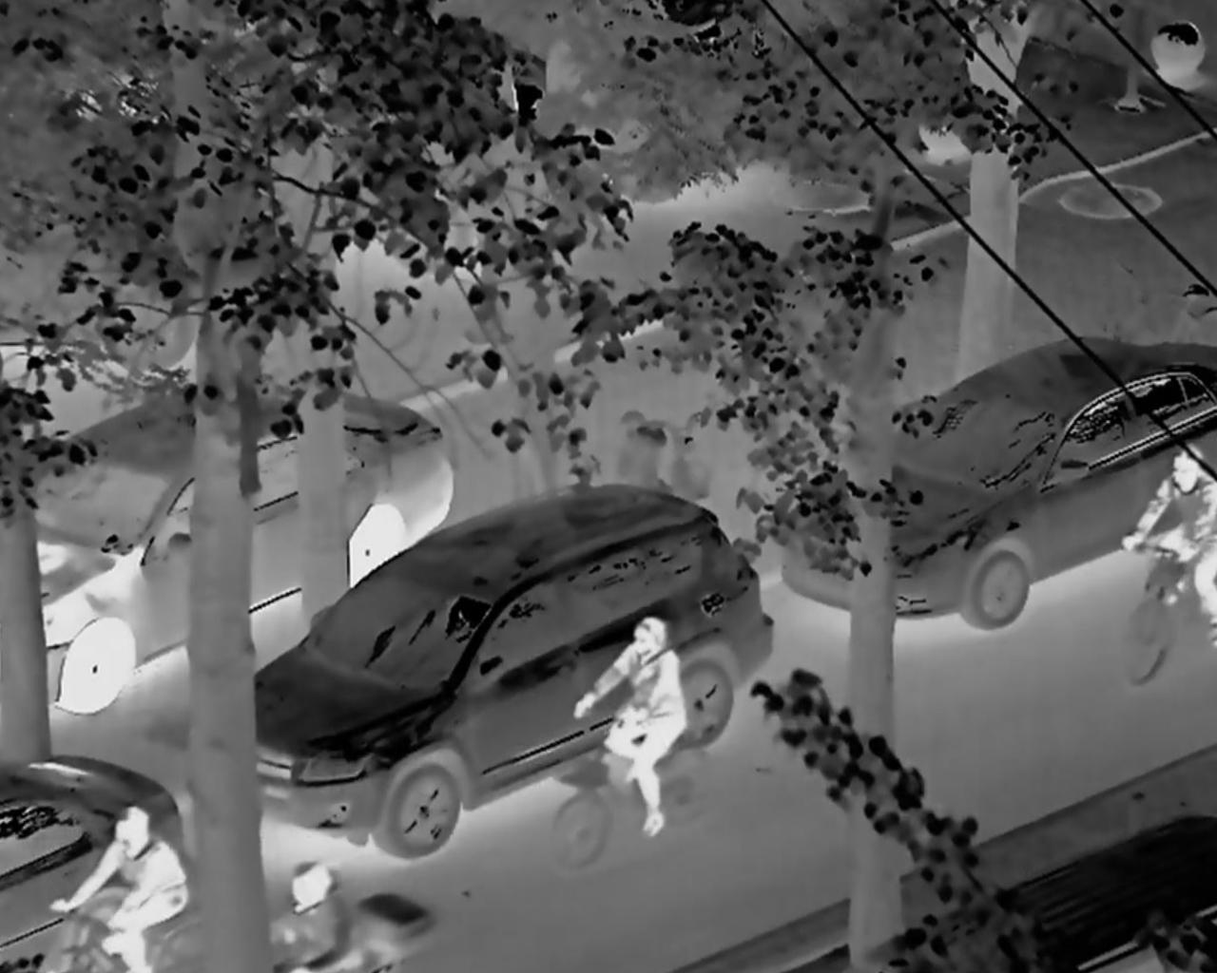person: (557, 606, 702, 869), (50, 805, 184, 966), (1119, 439, 1217, 659), (256, 849, 398, 973)
